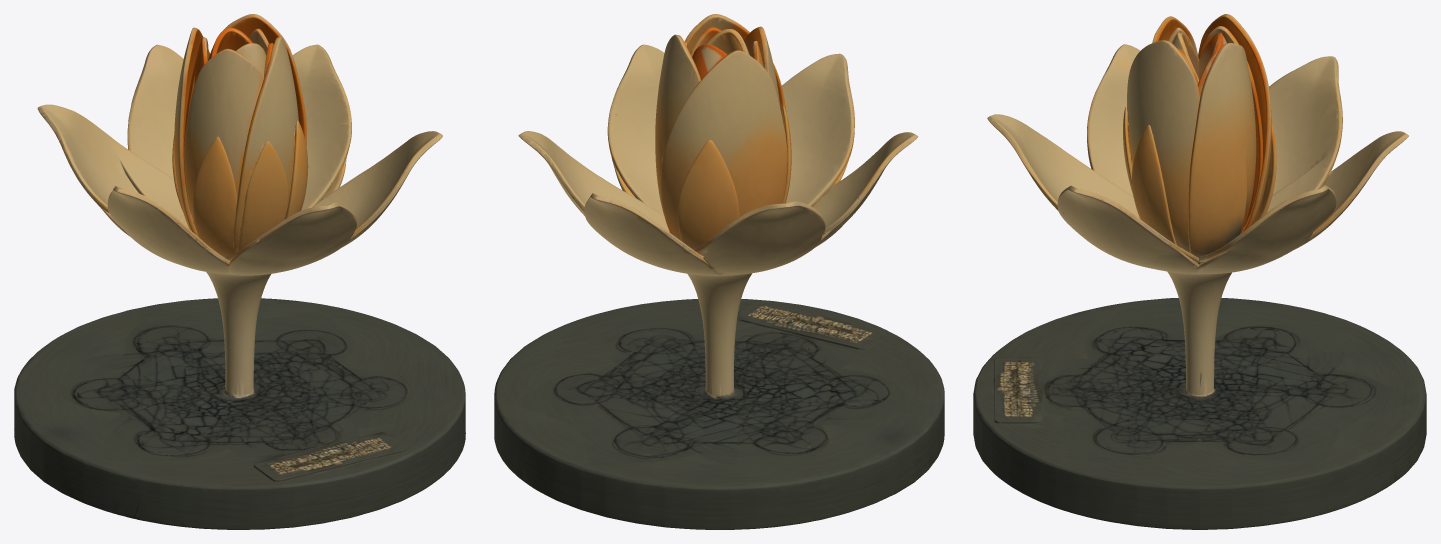
File: medium-final.glb
3 renders of one model, left to right at view 1: azimuth 30°, elevation 25°; view 2: azimuth 150°, elevation 25°; view 3: azimuth 270°, elevation 25°, orthographic.
Visible parts, largest first — view 1: material; view 2: material; view 3: material.
Boxes of the visible parts, box(x1,y1,x2,y2) form: material: box(14, 14, 465, 529); material: box(494, 14, 944, 529); material: box(973, 14, 1426, 529).
Size of the model in its own units: 0.8571 by 0.8448 by 0.8573.
1 material, 1 textured.
